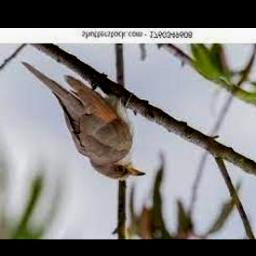Cuckoo: (21, 61, 146, 180)
